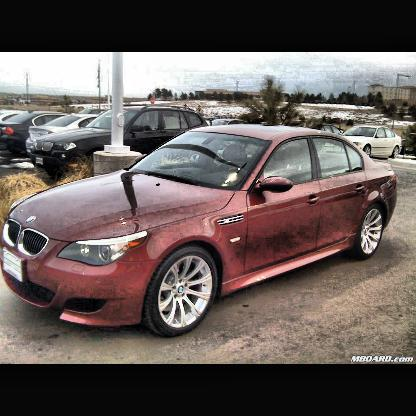BMW M5 Sedan 2010: (4, 125, 403, 339)
